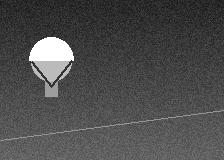helmet: (29, 37, 73, 86)
